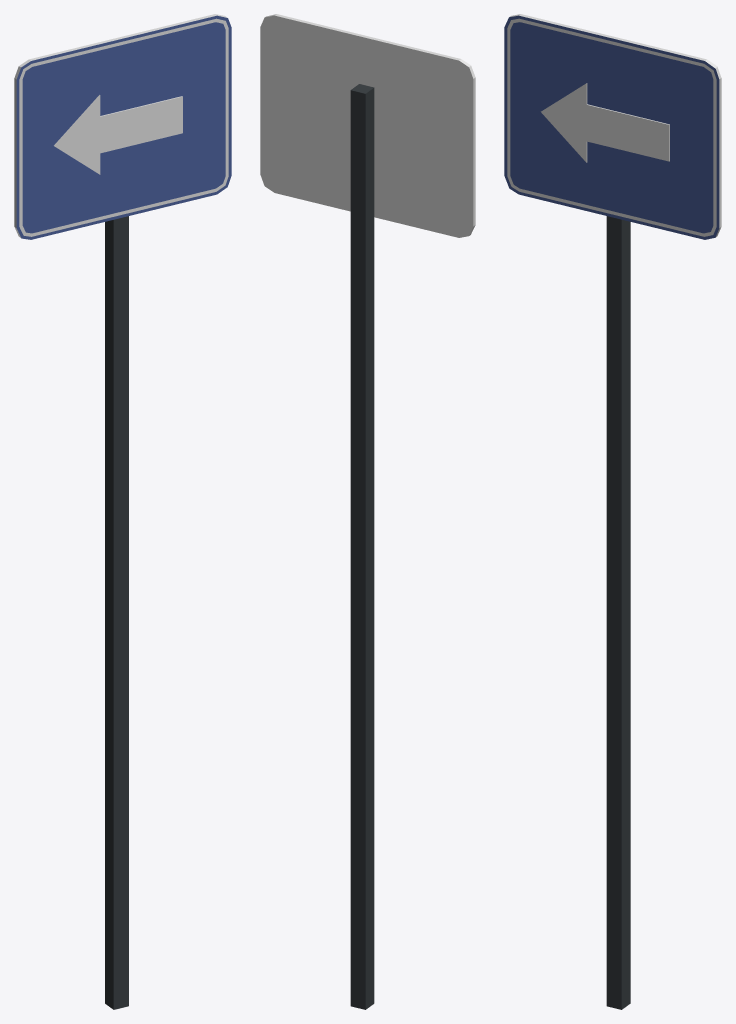
File: SM_FloorProps_RoadSign_13.fbx
3 renders of one model, left to right at view 1: azimuth 30°, elevation 25°; view 2: azimuth 150°, elevation 25°; view 3: azimuth 330°, elevation 25°, orthographic.
Parts seen in each view (by area): view 1: SM_FloorProps_RoadSign_13; view 2: SM_FloorProps_RoadSign_13; view 3: SM_FloorProps_RoadSign_13.
Boxes of the visible parts, x1,y1,x2,y2 form: SM_FloorProps_RoadSign_13: [14, 14, 231, 1009]; SM_FloorProps_RoadSign_13: [260, 14, 475, 1009]; SM_FloorProps_RoadSign_13: [504, 14, 721, 1009].
Bounding box in the file's own units: 0.6082 × 2.63 × 0.0586.
